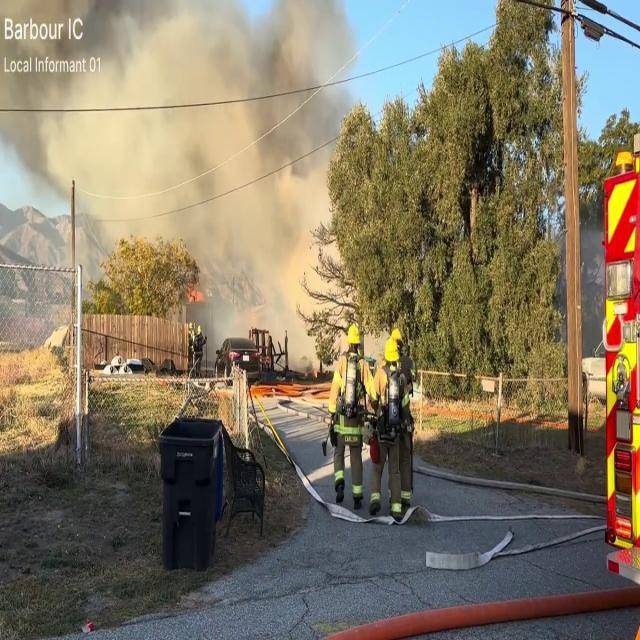Smoke: (1, 0, 343, 328)
